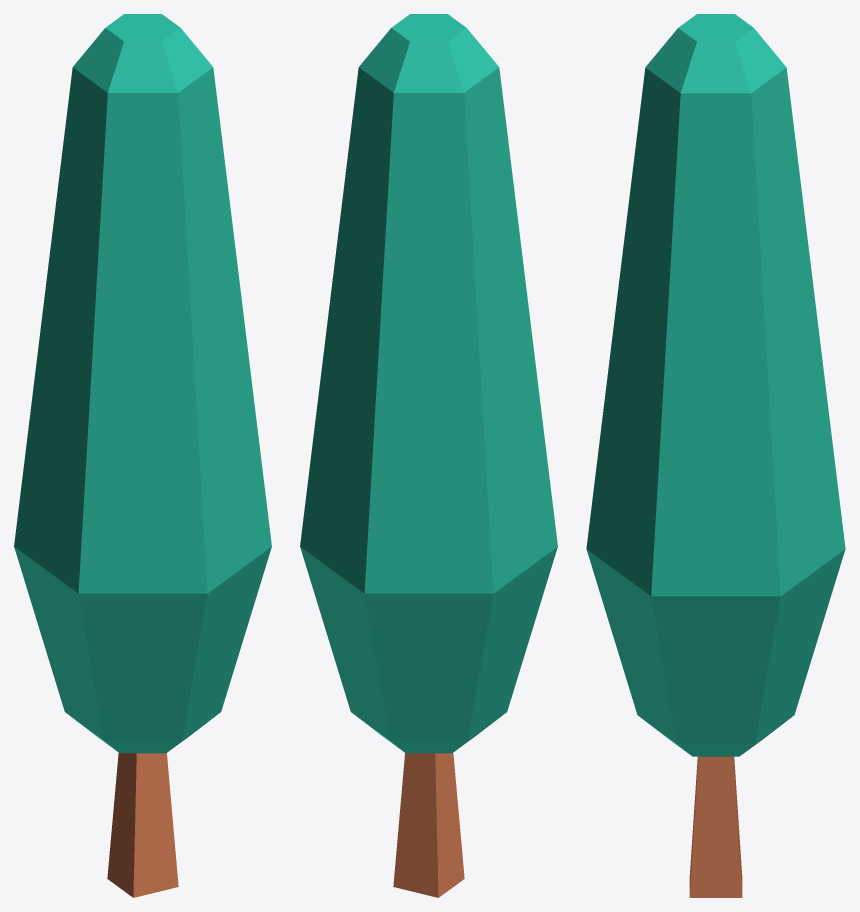
The model's file is alamo.glb.
The picture shows the model from 3 angles, left to right: view 1: azimuth 30°, elevation 25°; view 2: azimuth 150°, elevation 25°; view 3: azimuth 270°, elevation 25°; orthographic projection.
Visible parts, largest first — view 1: alamo; view 2: alamo; view 3: alamo.
Part boxes in pixels (x1=…): alamo: x1=14, y1=14, x2=271, y2=897; alamo: x1=300, y1=14, x2=557, y2=897; alamo: x1=586, y1=14, x2=845, y2=897.
Bounding box in the file's own units: 2.6 × 11 × 3.01.
Materials: 1 (1 with a texture image).
